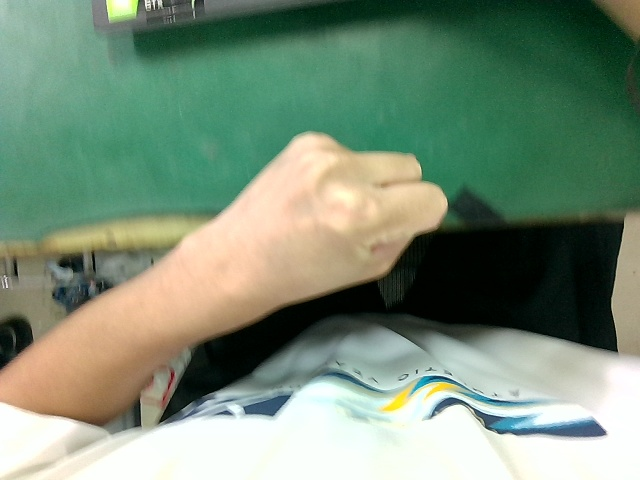stone: (191, 121, 463, 309)
